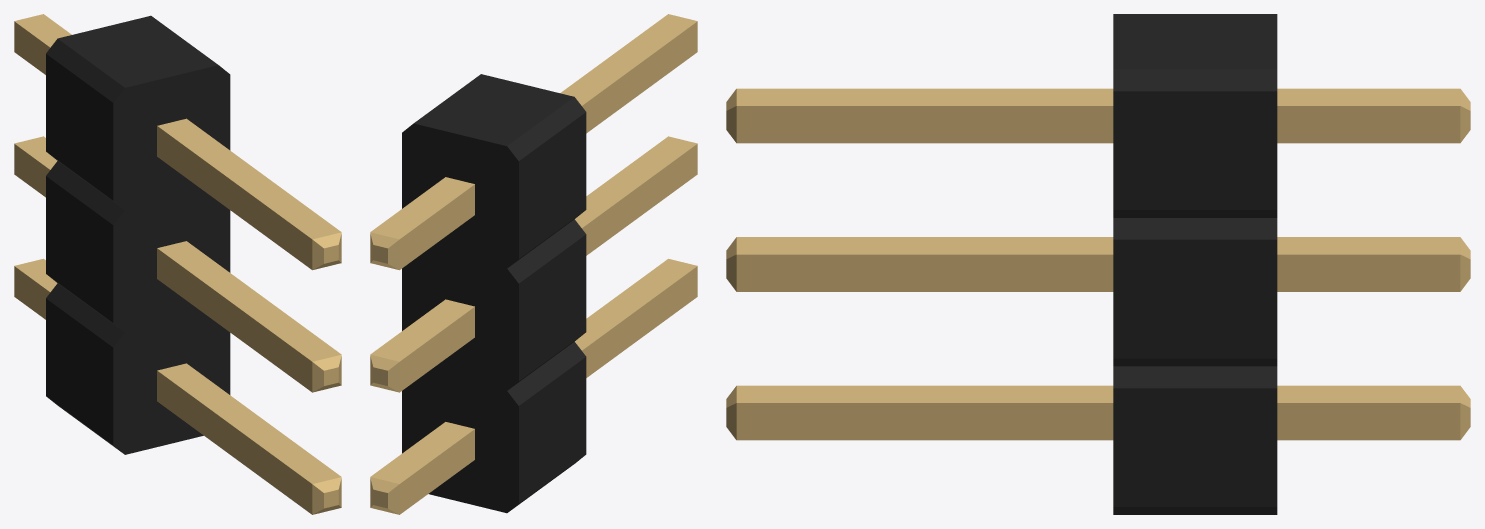
File: PinHeader_1x03_P2.54mm_Vertical.glb
3 renders of one model, left to right at view 1: azimuth 30°, elevation 25°; view 2: azimuth 150°, elevation 25°; view 3: azimuth 270°, elevation 25°, orthographic. The views are drawn at different scales.
Visible parts, largest first — view 1: PinHeader_1x03_P254mm_Vertical; view 2: PinHeader_1x03_P254mm_Vertical; view 3: PinHeader_1x03_P254mm_Vertical.
Boxes of the visible parts, x1=… form: PinHeader_1x03_P254mm_Vertical: x1=14, y1=14, x2=341, y2=514; PinHeader_1x03_P254mm_Vertical: x1=370, y1=14, x2=697, y2=514; PinHeader_1x03_P254mm_Vertical: x1=726, y1=14, x2=1470, y2=514.
Size of the model in its own units: 0.00254 by 0.00762 by 0.0115.
